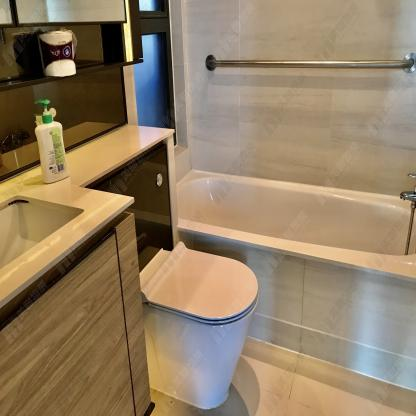Bathtub: (176, 167, 416, 390)
Toilet: (138, 240, 262, 406)
Toilet Sink: (0, 170, 135, 308)
